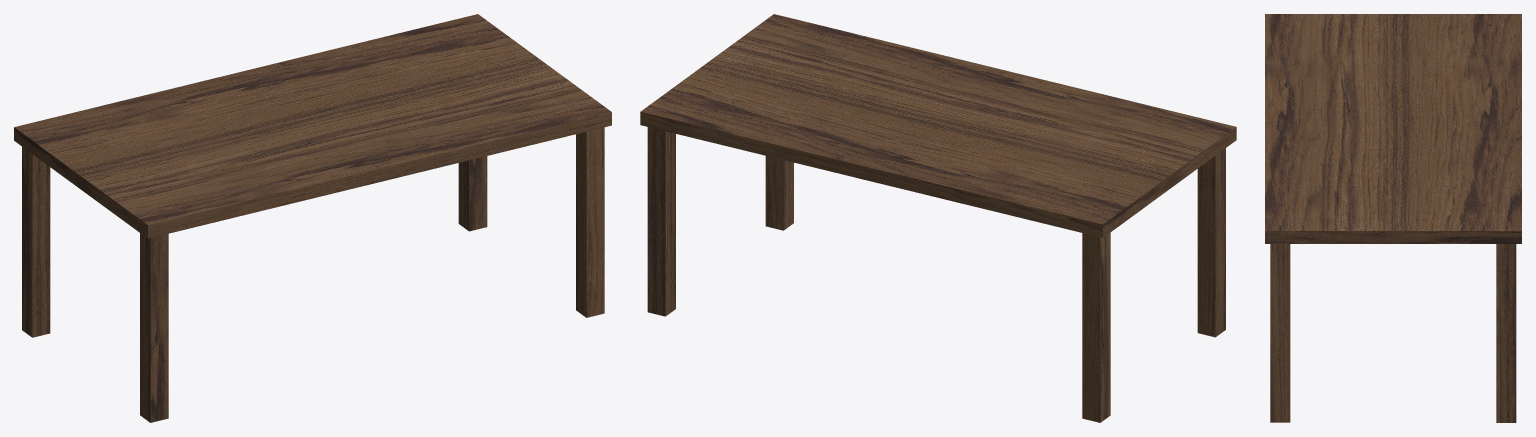
Rendered from pöytä.fbx.
The picture shows the model from 3 angles, left to right: view 1: azimuth 30°, elevation 25°; view 2: azimuth 150°, elevation 25°; view 3: azimuth 270°, elevation 25°; orthographic projection. The views are drawn at different scales.
Visible parts, largest first — view 1: Tabletop; view 2: Tabletop; view 3: Tabletop.
Boxes of the visible parts, x1,y1,x2,y2 form: Tabletop: [14, 14, 611, 422]; Tabletop: [640, 14, 1236, 422]; Tabletop: [1265, 14, 1521, 422].
Bounding box in the file's own units: 70.87 × 29.53 × 35.43.
